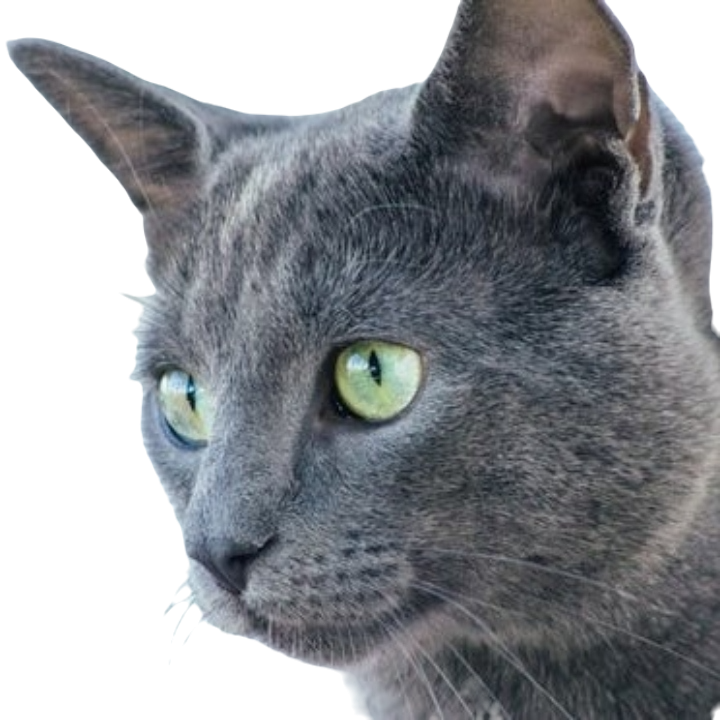Cat: (11, 0, 719, 717)
